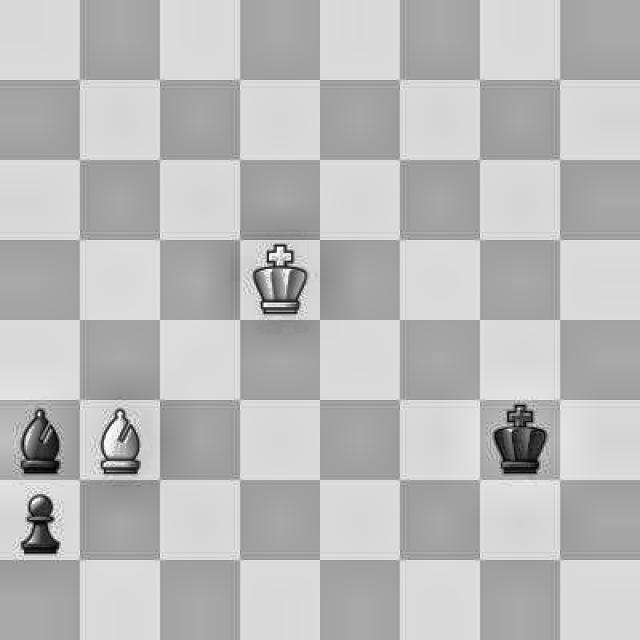black bishop: (8, 406, 71, 474)
black king: (486, 406, 548, 473)
black pawn: (6, 486, 70, 556)
white bishop: (88, 399, 158, 480)
white king: (241, 250, 323, 320)
